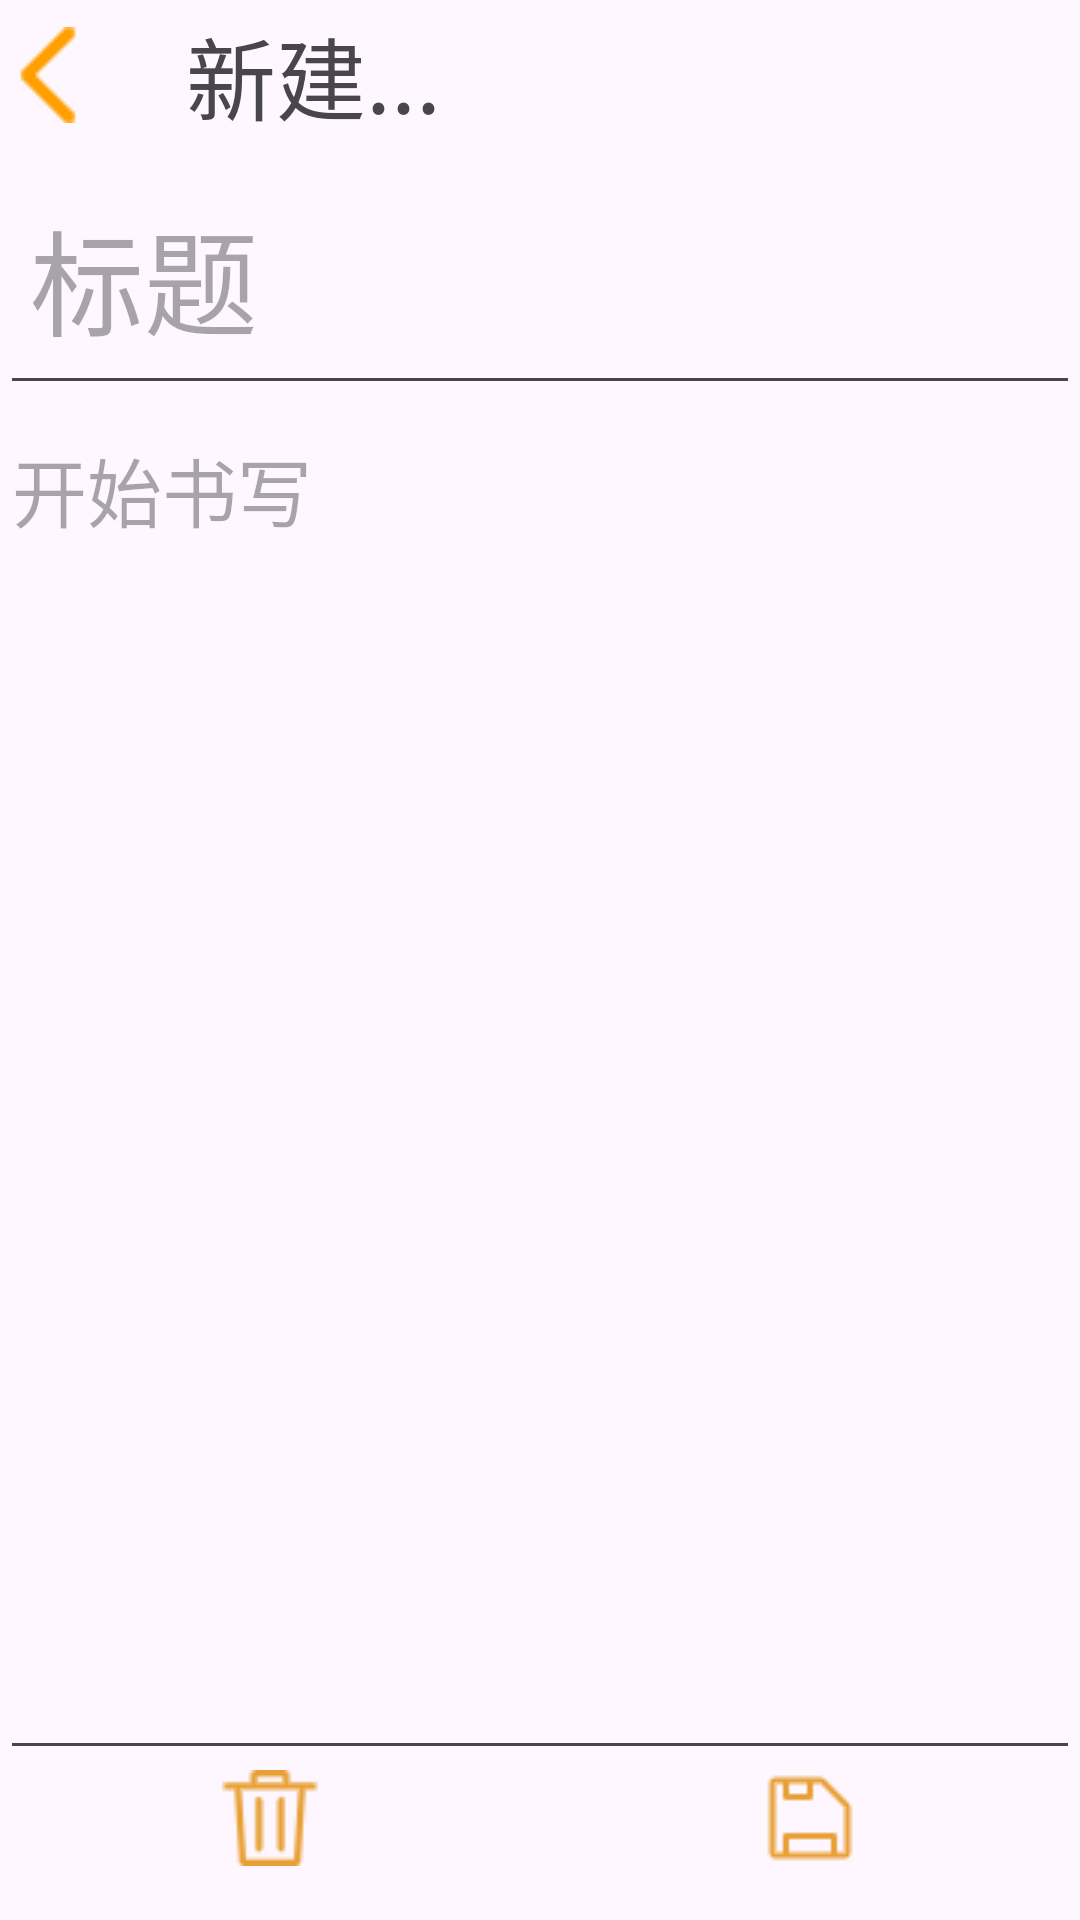

Screen size 1080 x 1920. Icon name, then its box in pixels as (left=x1, top=y1, right=x2, bottom=y2):
back: (left=20, top=27, right=76, bottom=123)
delete: (left=222, top=1770, right=318, bottom=1866)
save: (left=767, top=1775, right=853, bottom=1861)
